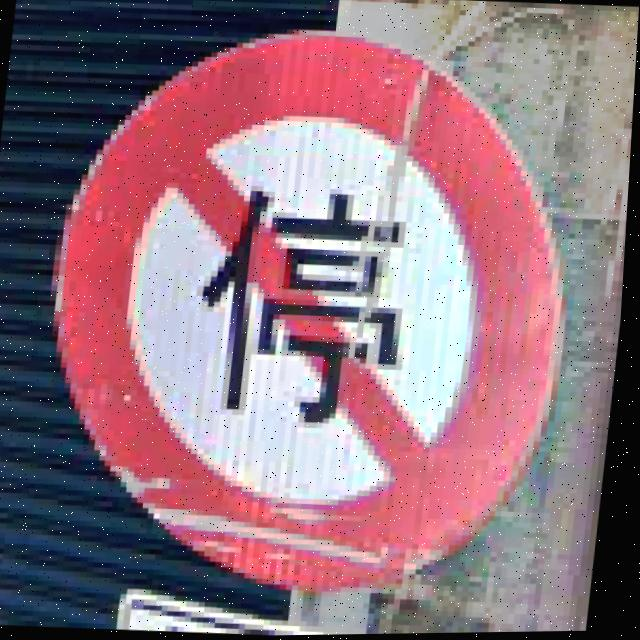nopark: (25, 11, 599, 607)
